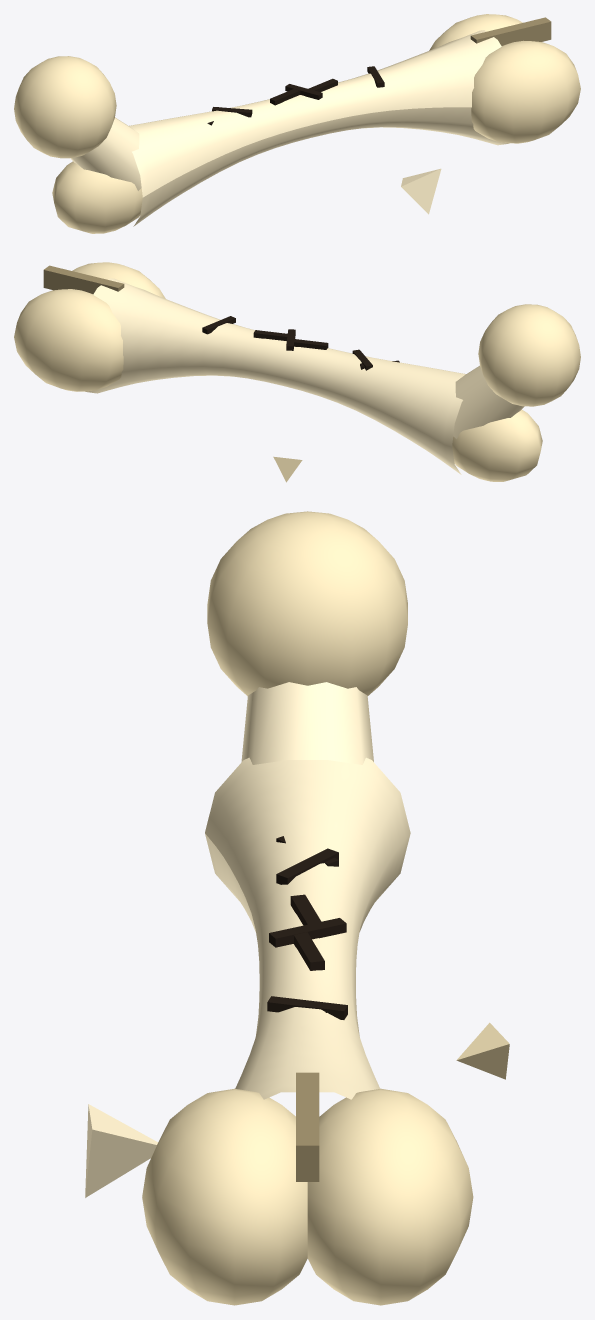
File: bone.glb
3 views of the same model, one above another, from view 1: azimuth 30°, elevation 25°; view 2: azimuth 150°, elevation 25°; view 3: azimuth 270°, elevation 25° (orthographic). The views are drawn at different scales.
Parts seen in each view (by area): view 1: bone; view 2: bone; view 3: bone.
Boxes of the visible parts, bbox=[...] form: bone: bbox=[14, 14, 580, 233]; bone: bbox=[14, 262, 580, 482]; bone: bbox=[85, 511, 509, 1305].
Size of the model in its own units: 0.3741 by 0.1253 by 0.1279.
